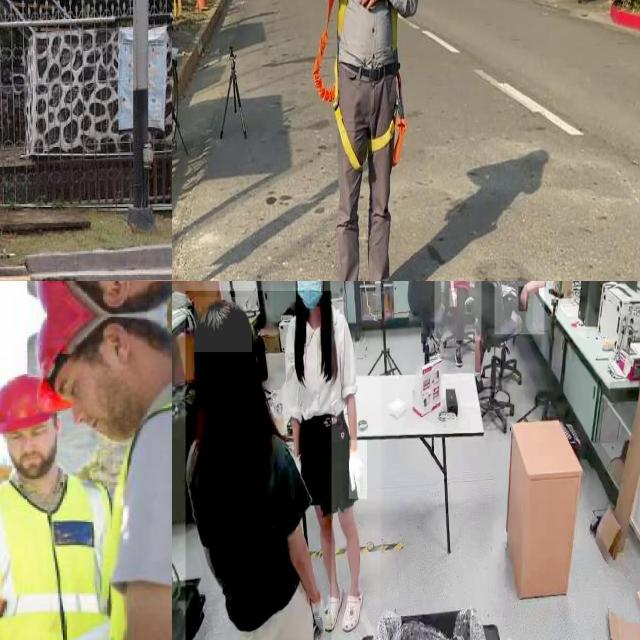Harness: (313, 0, 360, 168), (370, 106, 408, 166)
No_Ear-Protection: (101, 319, 140, 370)
No_Glasses: (5, 422, 53, 447)
face_mask: (299, 281, 324, 306)
face_nomask: (10, 437, 58, 478)
hand_glove: (349, 440, 367, 500), (308, 595, 329, 640)
hand_noglove: (518, 286, 528, 312), (450, 288, 458, 308)
head_helmet: (0, 376, 66, 433)
head_nohelmet: (194, 297, 252, 353)
person: (185, 290, 332, 640), (269, 281, 380, 640), (434, 281, 481, 341), (494, 281, 545, 335)
shoes: (452, 345, 463, 368)
